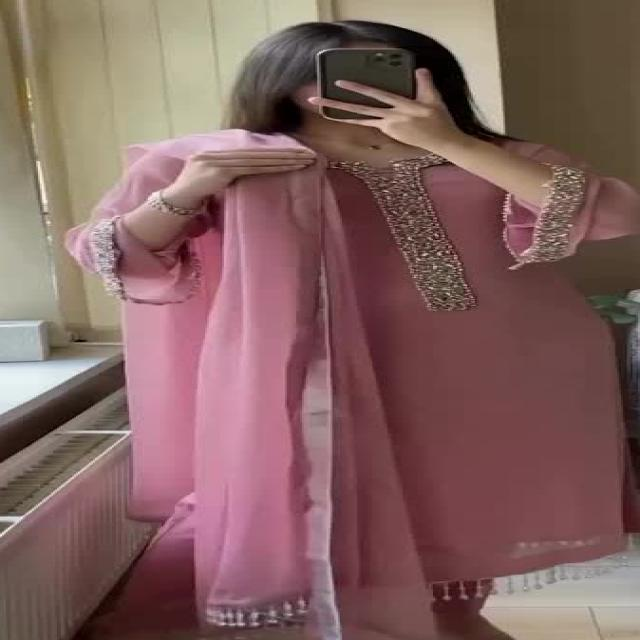sarees: (61, 127, 640, 640)
